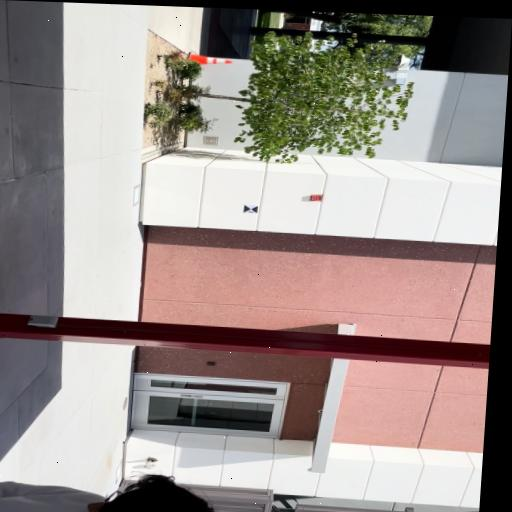target2: (243, 204, 258, 215)
